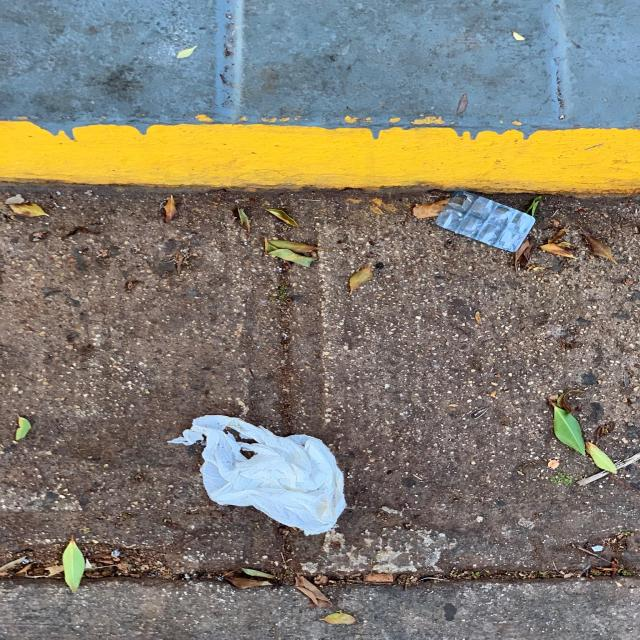litter: (170, 413, 348, 537), (433, 192, 535, 256)
